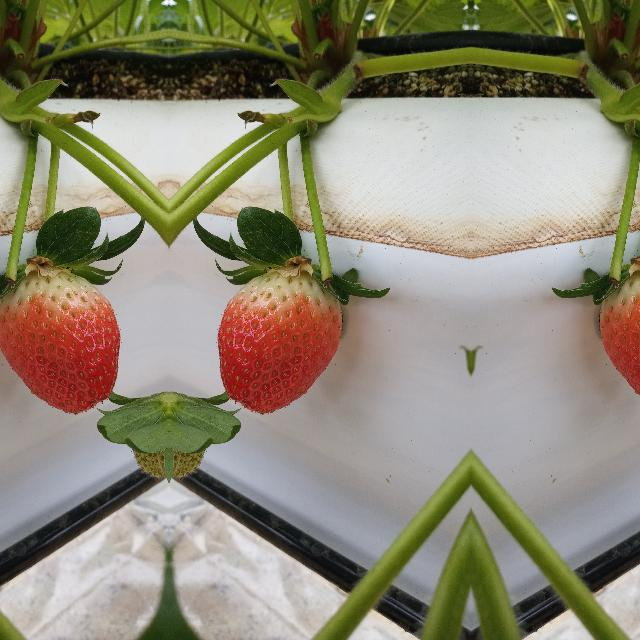Health_75: (215, 270, 342, 414), (0, 270, 121, 414), (599, 270, 640, 414)
